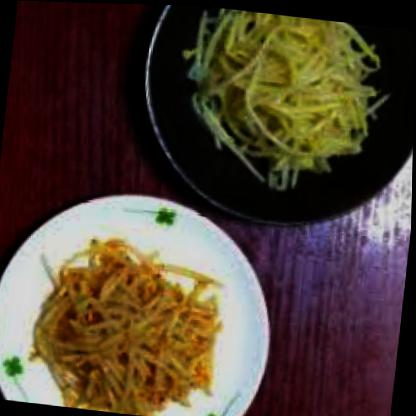seasoned bean sprouts: (184, 4, 388, 189), (37, 248, 223, 415)
